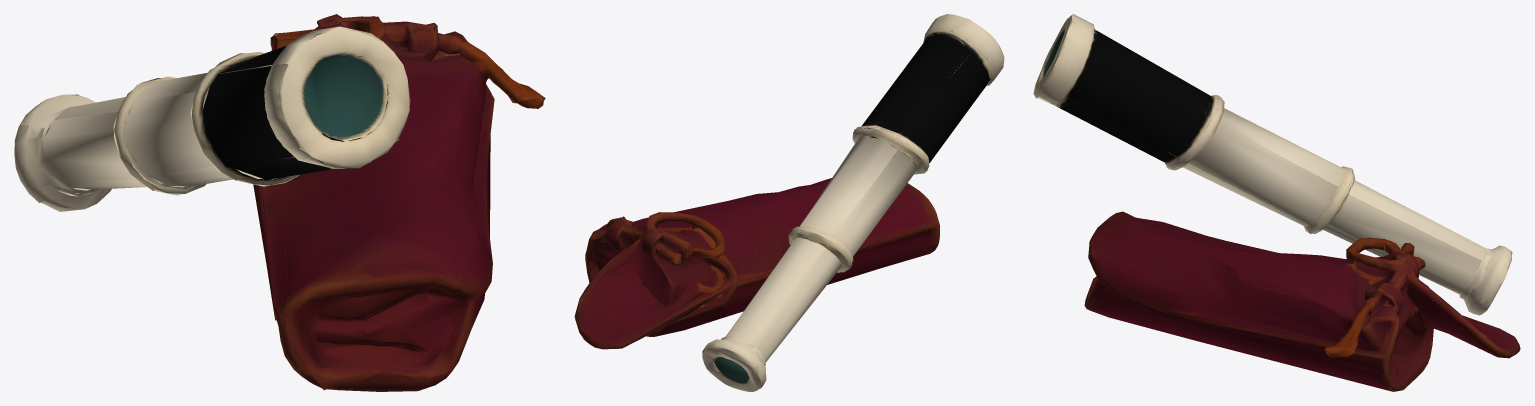
3 views of the same model, side by side, from view 1: azimuth 30°, elevation 25°; view 2: azimuth 150°, elevation 25°; view 3: azimuth 270°, elevation 25° (orthographic). The views are drawn at different scales.
Visible parts, largest first — view 1: material; view 2: material; view 3: material.
Part boxes in pixels (x1,y1,x2,y2): material: (14,14,545,391); material: (574,14,1004,391); material: (1033,14,1520,391).
Size of the model in its own units: 1.39 by 1.18 by 1.9.
Materials: 1 (1 with a texture image).
